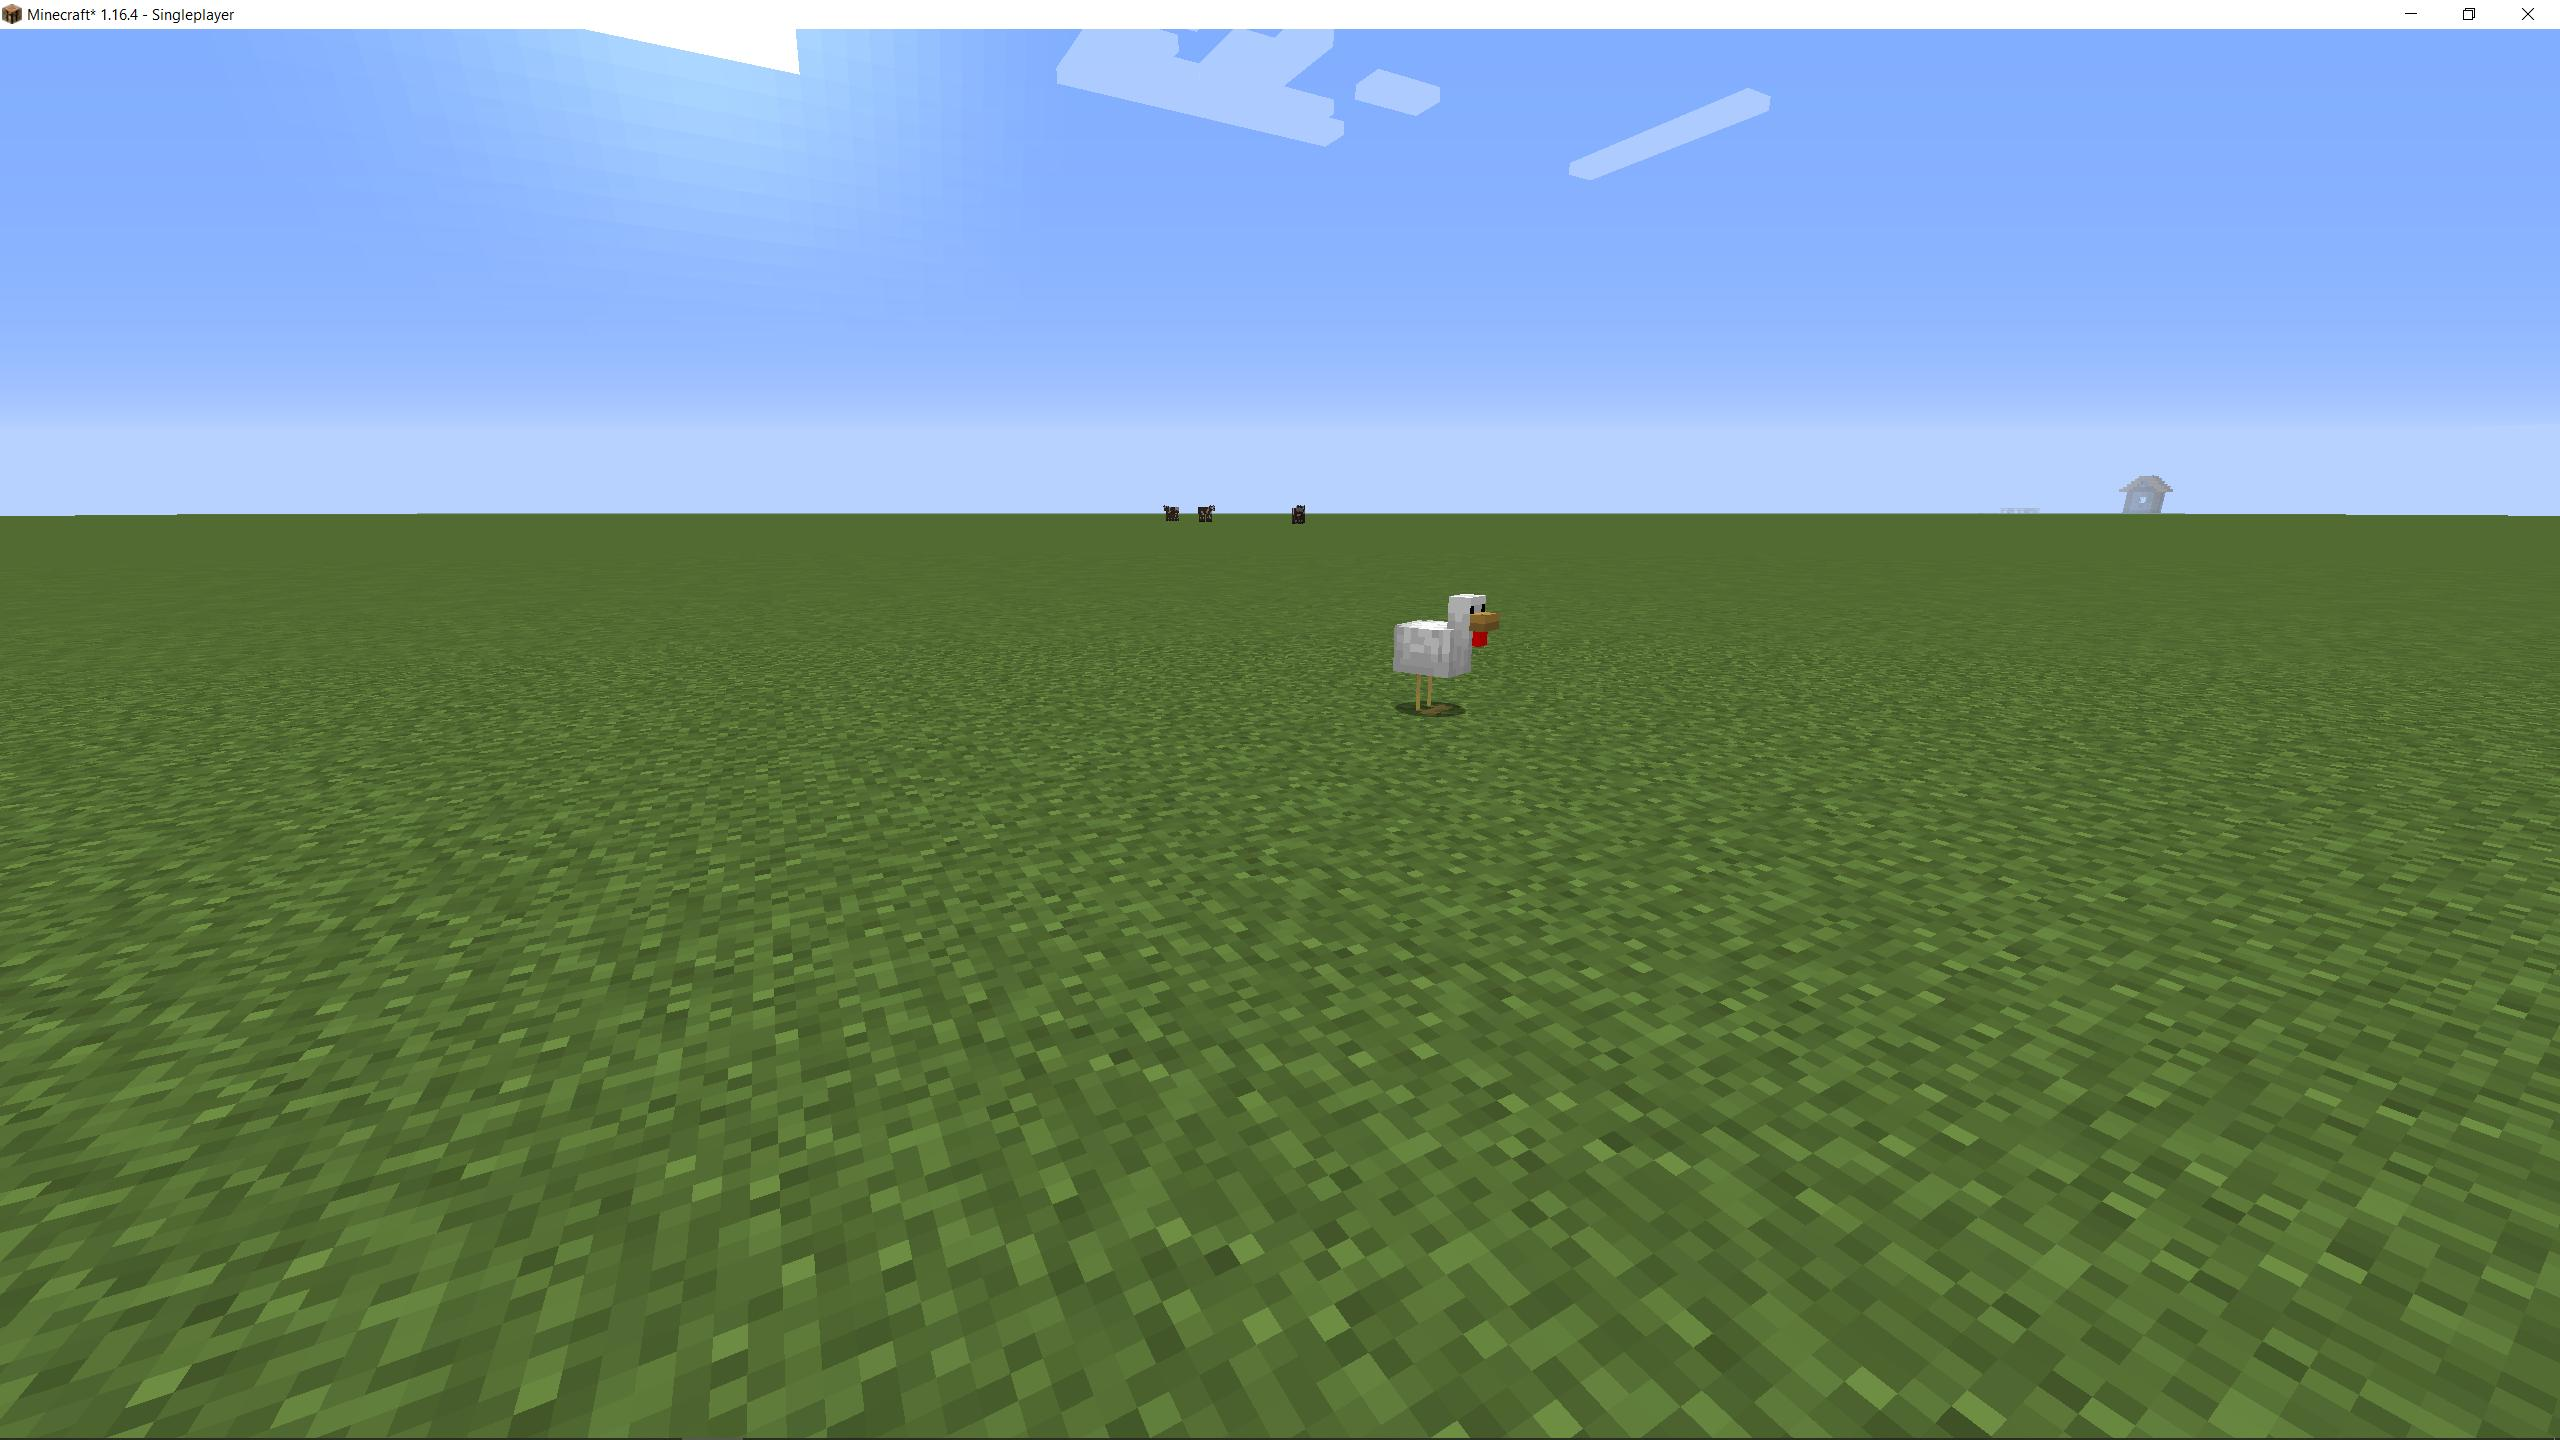chicken: (1391, 591, 1496, 717)
